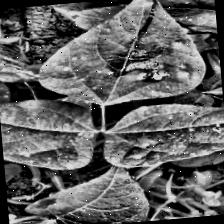Bean Rust: (32, 0, 205, 113), (102, 101, 224, 171), (0, 92, 98, 174), (163, 0, 217, 37)
